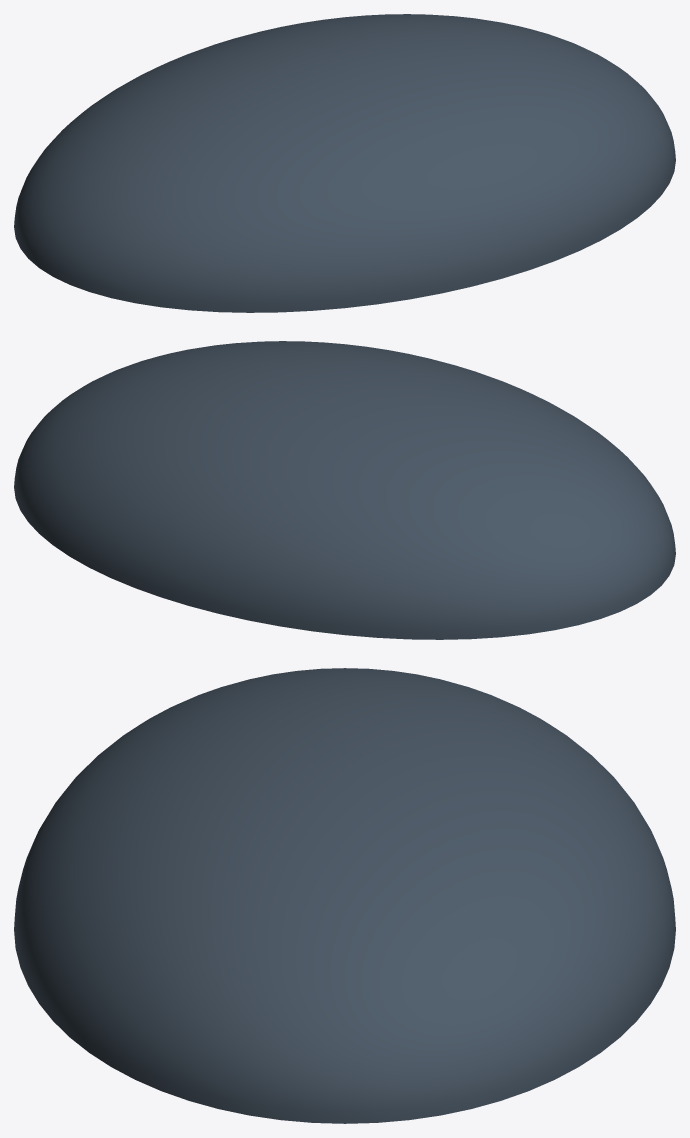
Rendered from labradorite.glb.
The picture shows the model from 3 angles, top to bottom: view 1: azimuth 30°, elevation 25°; view 2: azimuth 150°, elevation 25°; view 3: azimuth 270°, elevation 25°; orthographic projection. The views are drawn at different scales.
Visible parts, largest first — view 1: labradorite; view 2: labradorite; view 3: labradorite.
Boxes of the visible parts, <box> form: labradorite: <box>14,14,675,312</box>; labradorite: <box>14,341,675,639</box>; labradorite: <box>14,668,675,1123</box>.
Bounding box in the file's own units: 0.25 × 0.0525 × 0.18.
